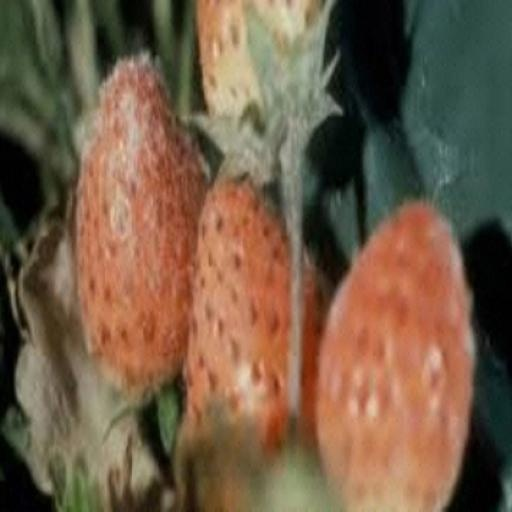Powdery Mildew Fruit: (33, 0, 198, 307), (174, 32, 334, 338), (300, 108, 439, 458)
